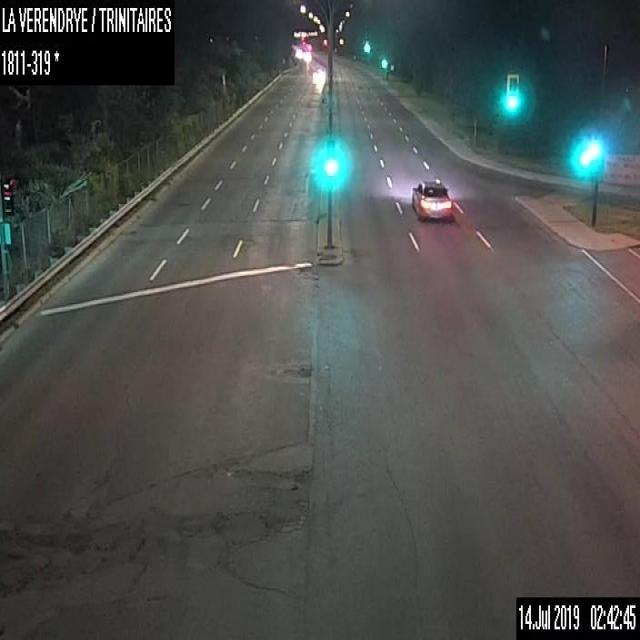vehicle: (410, 178, 453, 222)
